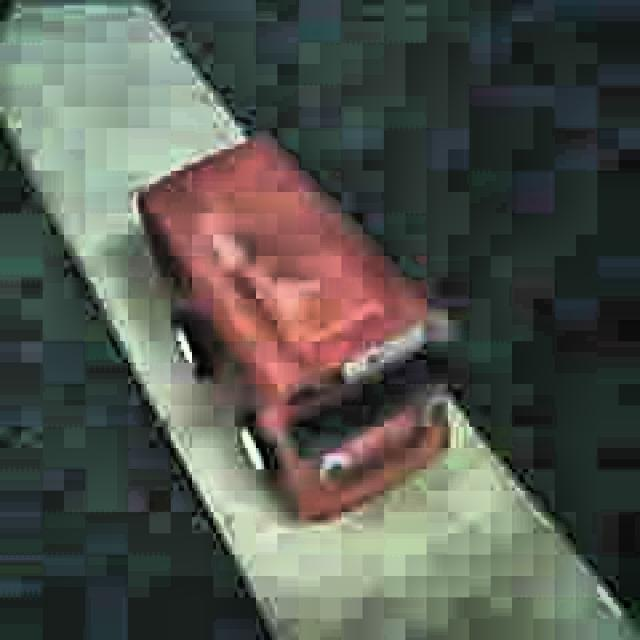bus: (136, 131, 452, 526)
